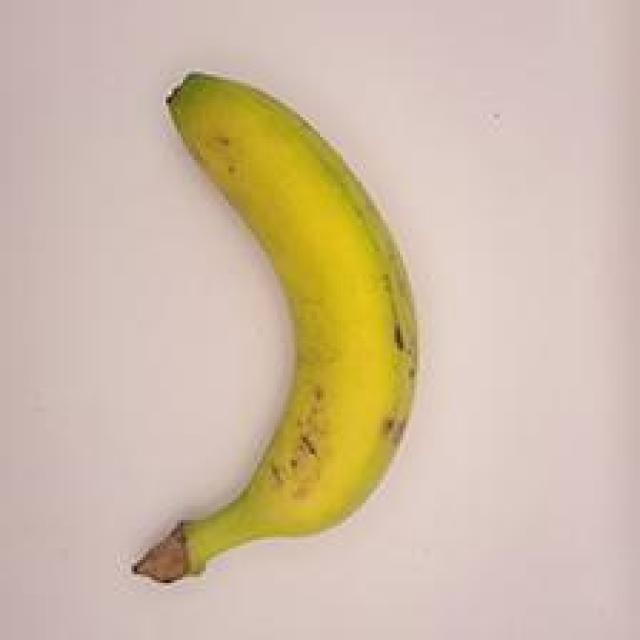ripe: (84, 57, 447, 591)
